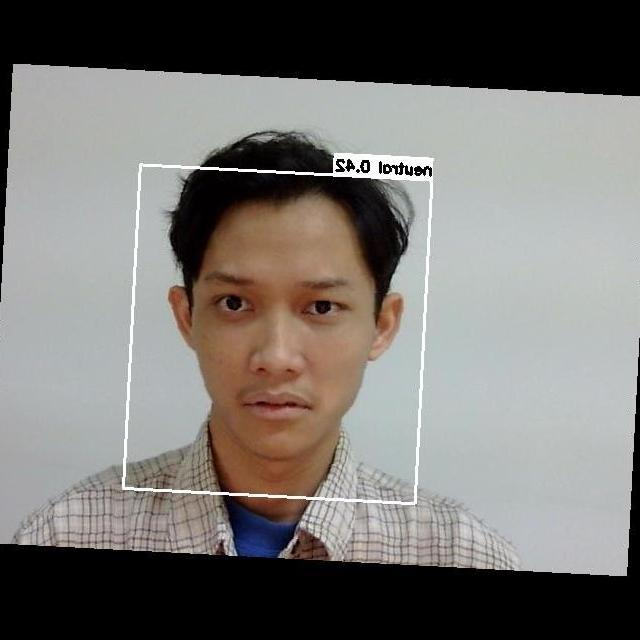Fear: (185, 254, 374, 445)
